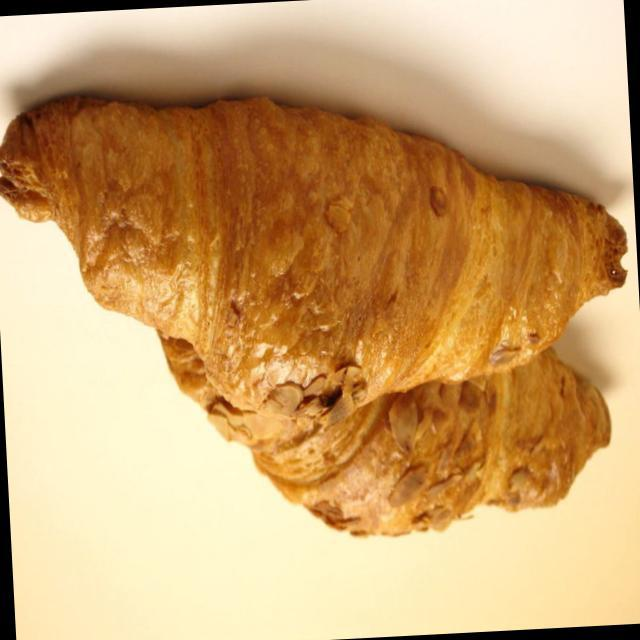Croissant: (0, 55, 640, 458)
